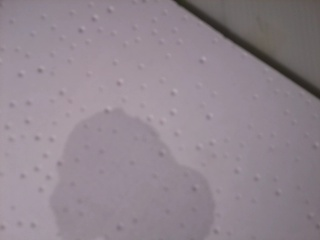Water_detected: (68, 123, 185, 233)
